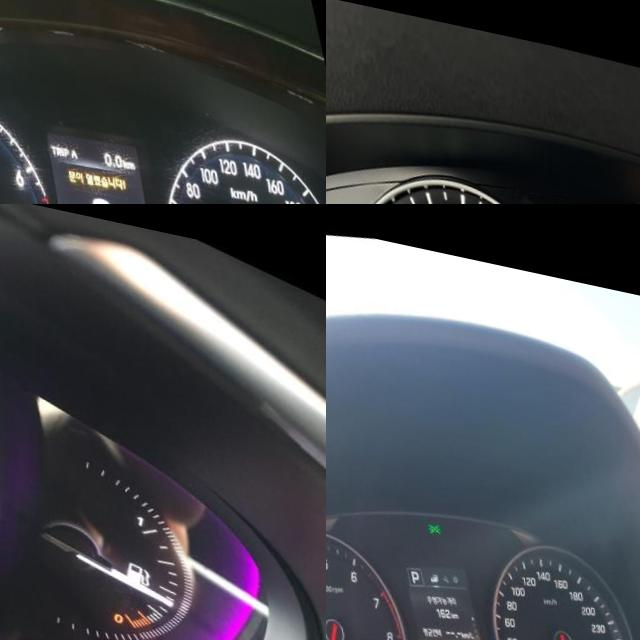SideLamp: (422, 506, 437, 521)
